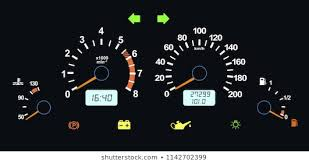Digital_Meter: (181, 91, 216, 105)
